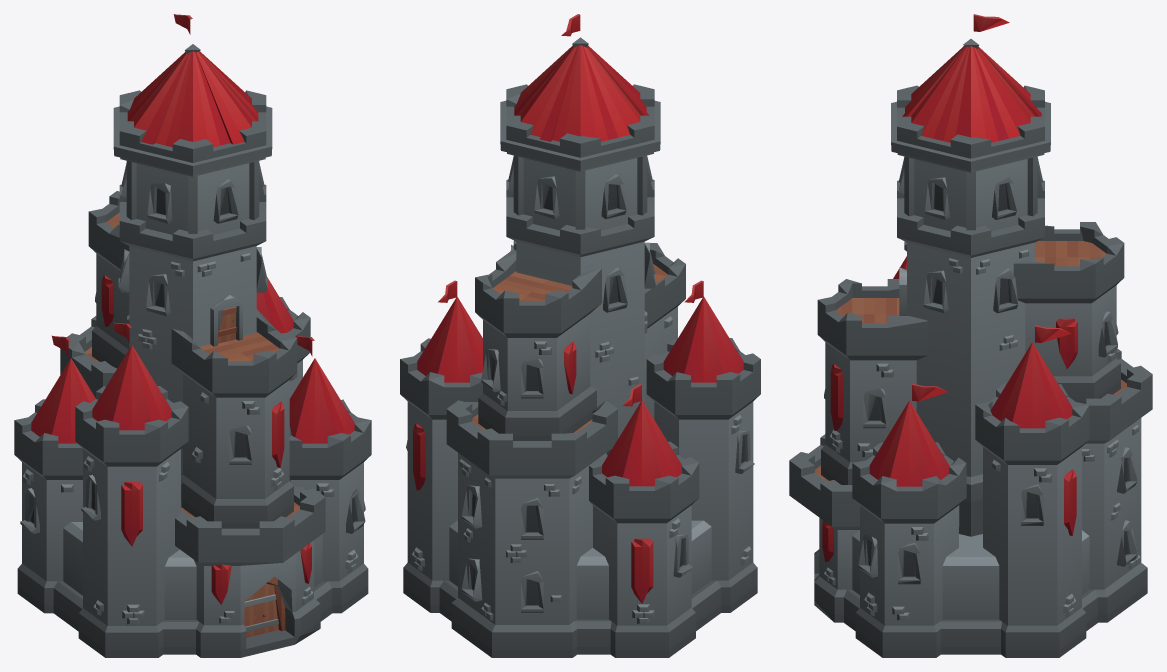
File: medieval-castle.glb
3 views of the same model, side by side, from view 1: azimuth 30°, elevation 25°; view 2: azimuth 150°, elevation 25°; view 3: azimuth 270°, elevation 25° (orthographic).
Visible parts, largest first — view 1: building_castle_red; view 2: building_castle_red; view 3: building_castle_red.
Boxes of the visible parts, x1,y1,x2,y2 form: building_castle_red: (14,14,371,657); building_castle_red: (400,14,760,657); building_castle_red: (789,14,1152,657).
Bounding box in the file's own units: 1.98 × 3.96 × 2.26.
